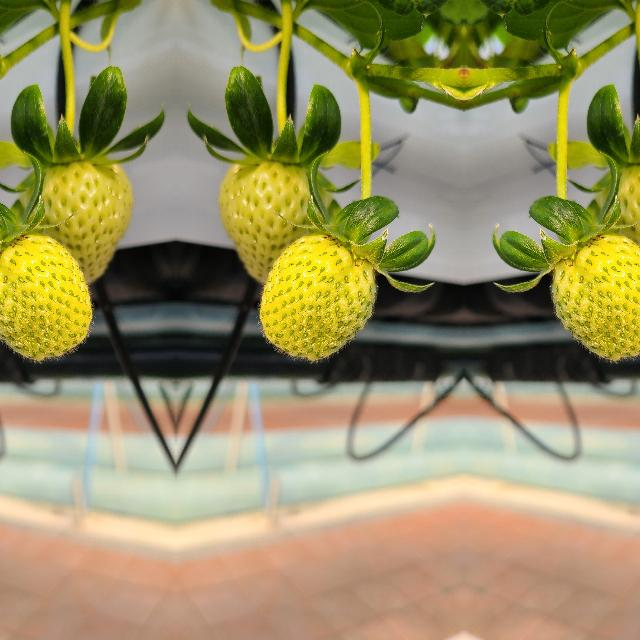Health_25: (218, 150, 336, 286), (14, 150, 132, 286), (258, 235, 374, 358), (0, 235, 92, 358), (551, 235, 640, 358), (590, 149, 640, 286)
